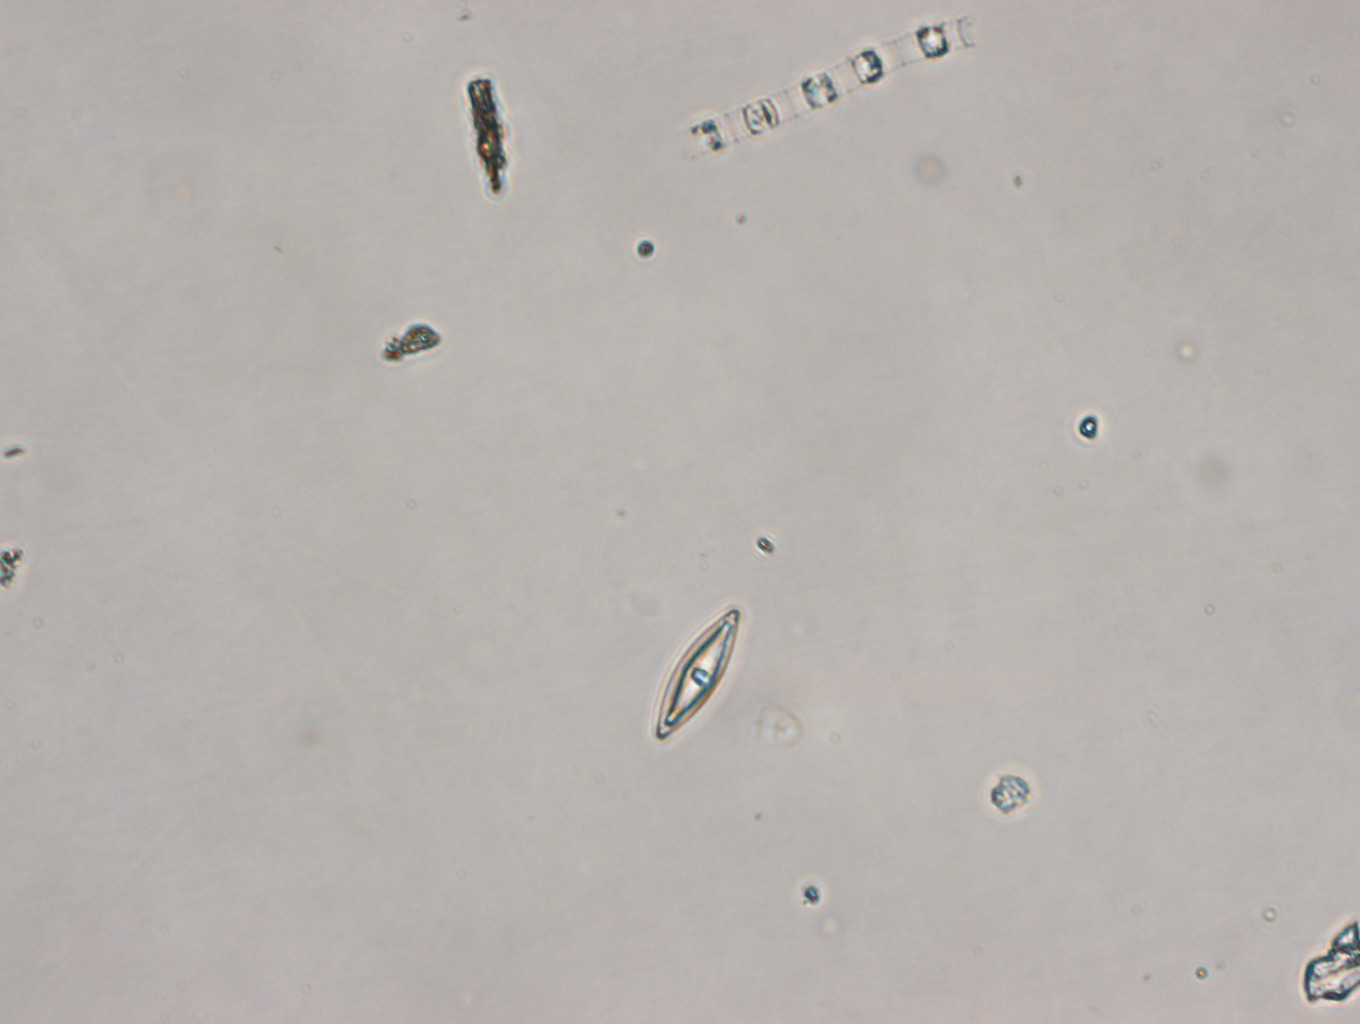navicula: (645, 599, 763, 740)
skeletonema: (688, 15, 1013, 180)
